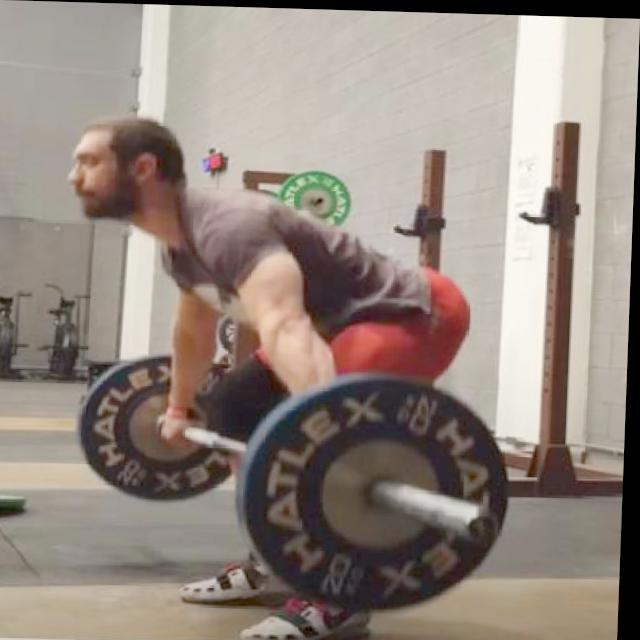barbell: (231, 363, 525, 620), (314, 195, 332, 207)
